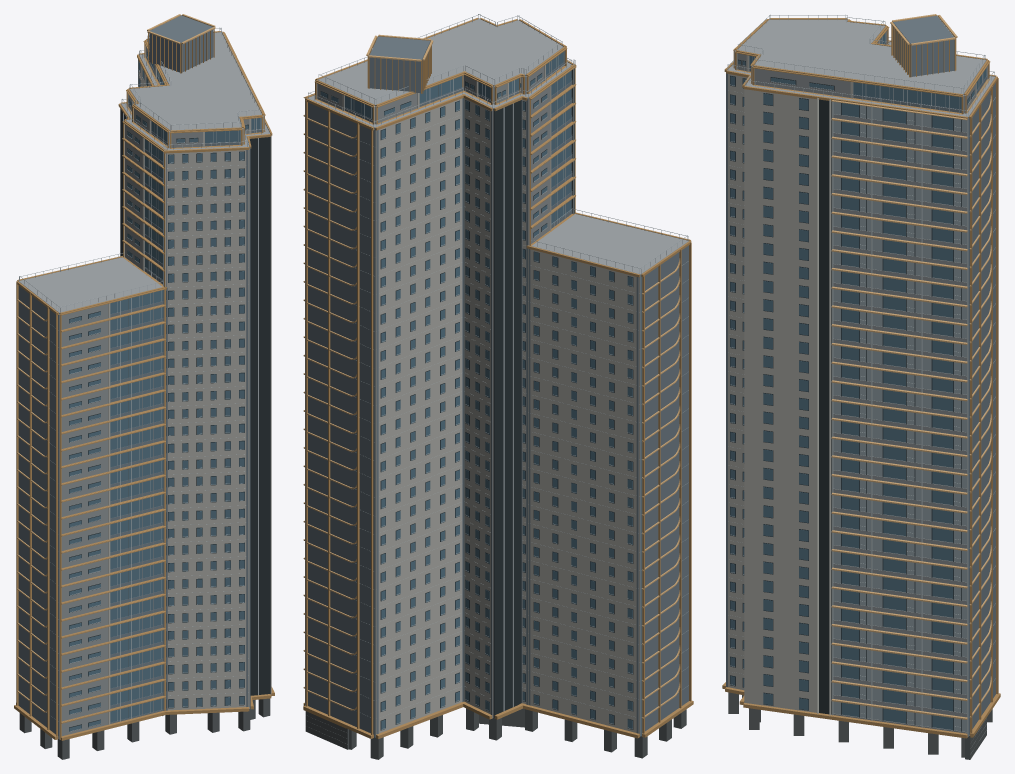
File: bespoke-raemian-onepentas-105.glb
The picture shows the model from 3 angles, left to right: view 1: azimuth 30°, elevation 25°; view 2: azimuth 150°, elevation 25°; view 3: azimuth 270°, elevation 25°; orthographic projection. The views are drawn at different scales.
Parts seen in each view (by area): view 1: bespoke-raemian-onepentas-105_export_batch_8, bespoke-raemian-onepentas-105_export_batch_6, bespoke-raemian-onepentas-105_export_batch_4, bespoke-raemian-onepentas-105_export_batch_2, bespoke-raemian-onepentas-105_export_batch_9, bespoke-raemian-onepentas-105_export_batch_10, bespoke-raemian-onepentas-105_export_batch_5, bespoke-raemian-onepentas-105_export_batch_3, bespoke-raemian-onepentas-105_export_batch_7, bespoke-raemian-onepentas-105_export_batch_1; view 2: bespoke-raemian-onepentas-105_export_batch_8, bespoke-raemian-onepentas-105_export_batch_4, bespoke-raemian-onepentas-105_export_batch_6, bespoke-raemian-onepentas-105_export_batch_9, bespoke-raemian-onepentas-105_export_batch_2, bespoke-raemian-onepentas-105_export_batch_5, bespoke-raemian-onepentas-105_export_batch_3, bespoke-raemian-onepentas-105_export_batch_7, bespoke-raemian-onepentas-105_export_batch_1, bespoke-raemian-onepentas-105_export_batch_10; view 3: bespoke-raemian-onepentas-105_export_batch_8, bespoke-raemian-onepentas-105_export_batch_6, bespoke-raemian-onepentas-105_export_batch_11, bespoke-raemian-onepentas-105_export_batch_10, bespoke-raemian-onepentas-105_export_batch_7, bespoke-raemian-onepentas-105_export_batch_9, bespoke-raemian-onepentas-105_export_batch_4, bespoke-raemian-onepentas-105_export_batch_2, bespoke-raemian-onepentas-105_export_batch_5, bespoke-raemian-onepentas-105_export_batch_3, bespoke-raemian-onepentas-105_export_batch_12, bespoke-raemian-onepentas-105_export_batch_1.
Boxes of the visible parts, x1=… form: bespoke-raemian-onepentas-105_export_batch_8: x1=59, y1=45, x2=271, y2=739; bespoke-raemian-onepentas-105_export_batch_6: x1=59, y1=52, x2=261, y2=731; bespoke-raemian-onepentas-105_export_batch_4: x1=18, y1=15, x2=261, y2=738; bespoke-raemian-onepentas-105_export_batch_2: x1=14, y1=15, x2=274, y2=740; bespoke-raemian-onepentas-105_export_batch_9: x1=69, y1=52, x2=270, y2=731; bespoke-raemian-onepentas-105_export_batch_10: x1=61, y1=47, x2=249, y2=736; bespoke-raemian-onepentas-105_export_batch_5: x1=18, y1=32, x2=269, y2=313; bespoke-raemian-onepentas-105_export_batch_3: x1=19, y1=27, x2=269, y2=731; bespoke-raemian-onepentas-105_export_batch_7: x1=17, y1=14, x2=215, y2=722; bespoke-raemian-onepentas-105_export_batch_1: x1=19, y1=698, x2=270, y2=759; bespoke-raemian-onepentas-105_export_batch_8: x1=315, y1=18, x2=640, y2=737; bespoke-raemian-onepentas-105_export_batch_4: x1=308, y1=36, x2=688, y2=737; bespoke-raemian-onepentas-105_export_batch_6: x1=320, y1=51, x2=641, y2=736; bespoke-raemian-onepentas-105_export_batch_9: x1=320, y1=70, x2=633, y2=730; bespoke-raemian-onepentas-105_export_batch_2: x1=303, y1=18, x2=693, y2=738; bespoke-raemian-onepentas-105_export_batch_5: x1=307, y1=19, x2=688, y2=274; bespoke-raemian-onepentas-105_export_batch_3: x1=305, y1=14, x2=688, y2=744; bespoke-raemian-onepentas-105_export_batch_7: x1=303, y1=34, x2=680, y2=718; bespoke-raemian-onepentas-105_export_batch_1: x1=305, y1=708, x2=686, y2=759; bespoke-raemian-onepentas-105_export_batch_10: x1=317, y1=66, x2=549, y2=243; bespoke-raemian-onepentas-105_export_batch_8: x1=728, y1=19, x2=988, y2=712; bespoke-raemian-onepentas-105_export_batch_6: x1=730, y1=33, x2=986, y2=735; bespoke-raemian-onepentas-105_export_batch_11: x1=833, y1=101, x2=966, y2=731; bespoke-raemian-onepentas-105_export_batch_10: x1=737, y1=41, x2=975, y2=733; bespoke-raemian-onepentas-105_export_batch_7: x1=831, y1=14, x2=991, y2=719; bespoke-raemian-onepentas-105_export_batch_9: x1=730, y1=59, x2=974, y2=731; bespoke-raemian-onepentas-105_export_batch_4: x1=726, y1=16, x2=995, y2=735; bespoke-raemian-onepentas-105_export_batch_2: x1=722, y1=15, x2=1000, y2=738; bespoke-raemian-onepentas-105_export_batch_5: x1=727, y1=19, x2=995, y2=117; bespoke-raemian-onepentas-105_export_batch_3: x1=727, y1=14, x2=995, y2=752; bespoke-raemian-onepentas-105_export_batch_12: x1=817, y1=98, x2=831, y2=715; bespoke-raemian-onepentas-105_export_batch_1: x1=728, y1=692, x2=992, y2=759.
Size of the model in its own units: 52.74 by 119 by 43.1.
